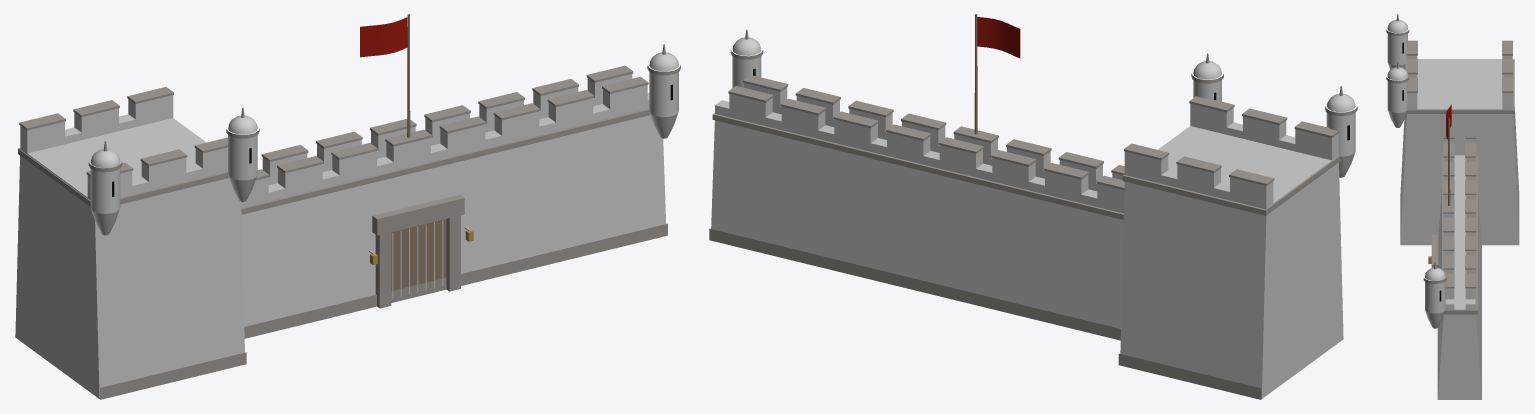
Rendered from SM_Art_Settlement_Fort_2.gltf.
3 renders of one model, left to right at view 1: azimuth 30°, elevation 25°; view 2: azimuth 150°, elevation 25°; view 3: azimuth 270°, elevation 25°, orthographic. The views are drawn at different scales.
Parts seen in each view (by area): view 1: SM_Art_Settlement_Fort_2; view 2: SM_Art_Settlement_Fort_2; view 3: SM_Art_Settlement_Fort_2.
Part boxes in pixels (<box>): SM_Art_Settlement_Fort_2: <box>15,14,680,399</box>; SM_Art_Settlement_Fort_2: <box>709,14,1357,399</box>; SM_Art_Settlement_Fort_2: <box>1386,14,1519,399</box>.
Size of the model in its own units: 29.5 by 12.65 by 7.91.
